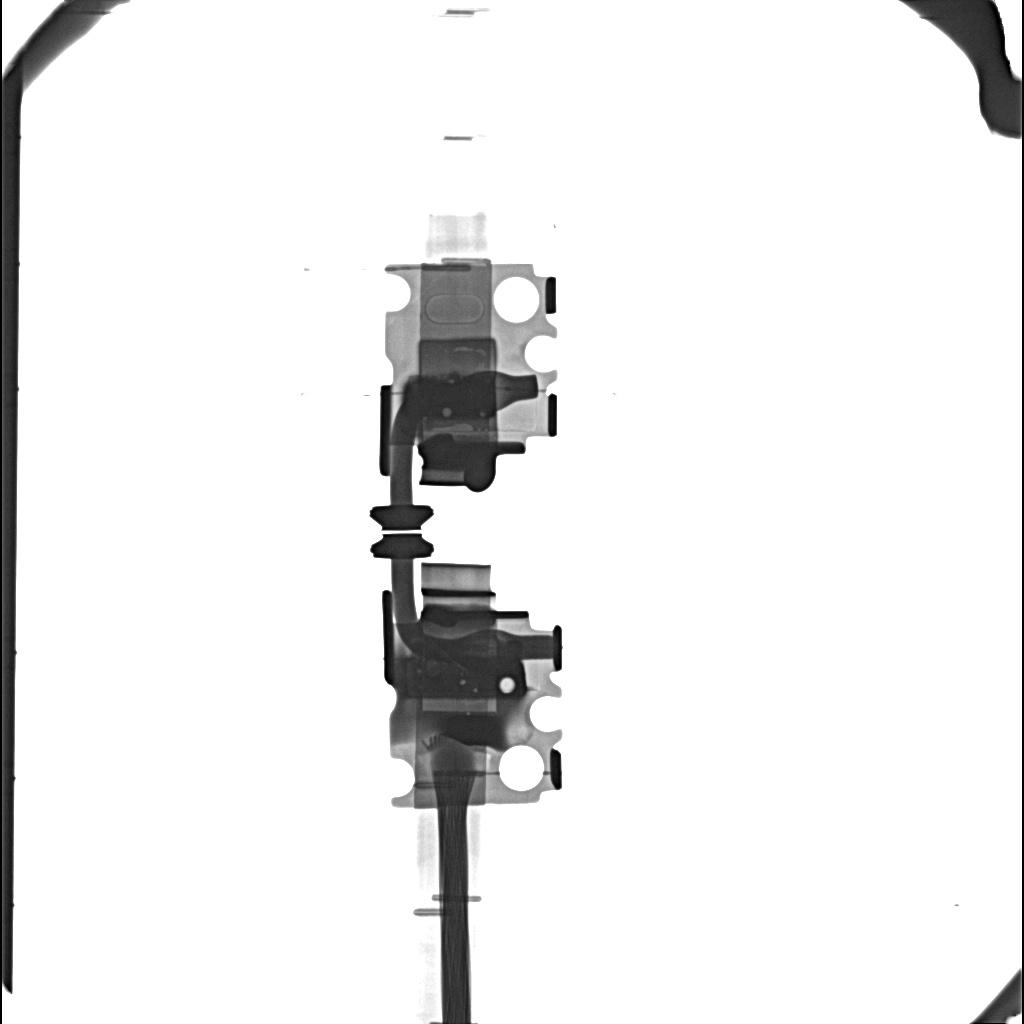defect: (405, 656, 528, 699), (406, 373, 496, 419), (418, 337, 497, 373), (420, 700, 500, 715)
